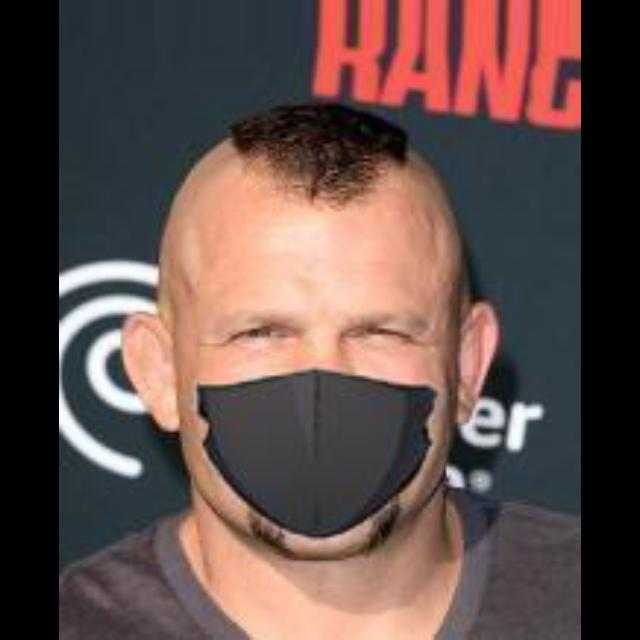suspicion: (161, 144, 489, 534)
